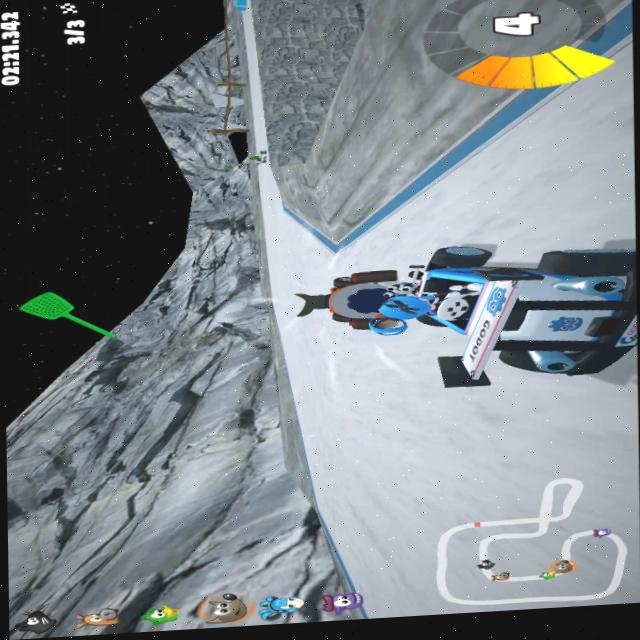bonus: (228, 0, 250, 10)
enemy_kart: (397, 237, 633, 395), (246, 147, 267, 169)
player_kart: (289, 267, 400, 338)
track: (369, 383, 638, 616), (397, 187, 633, 249), (307, 334, 393, 481), (495, 103, 630, 193), (580, 43, 637, 105), (323, 479, 366, 539), (297, 250, 399, 271), (274, 236, 295, 337), (343, 222, 396, 255), (246, 13, 256, 115), (344, 536, 372, 568), (260, 168, 273, 235), (289, 339, 305, 388), (270, 207, 284, 238), (250, 115, 263, 145), (295, 230, 309, 255)
